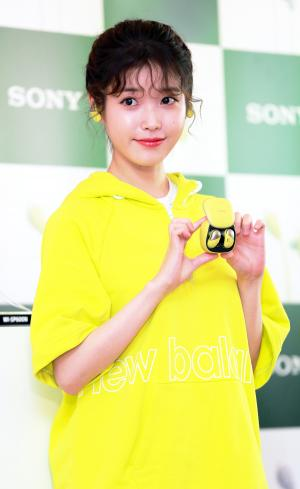earphone: (88, 94, 105, 124)
